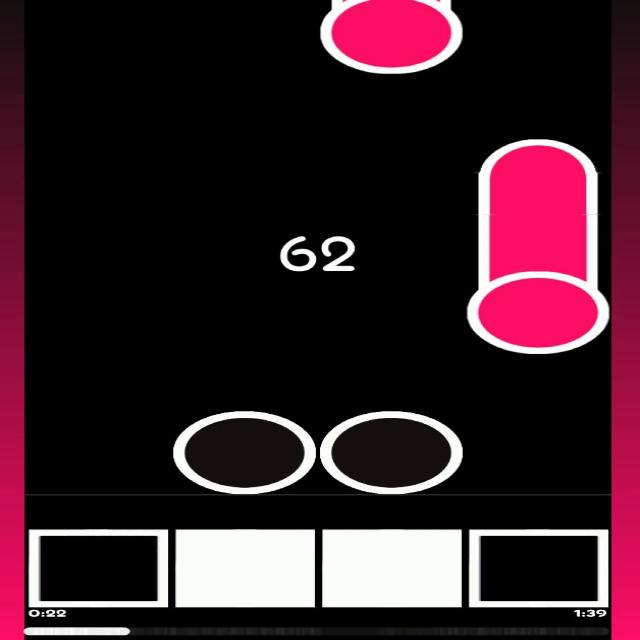end_hold: (479, 128, 598, 180)
note: (318, 407, 463, 495), (174, 406, 315, 495)
start_hold: (466, 248, 611, 353), (318, 0, 465, 73)
